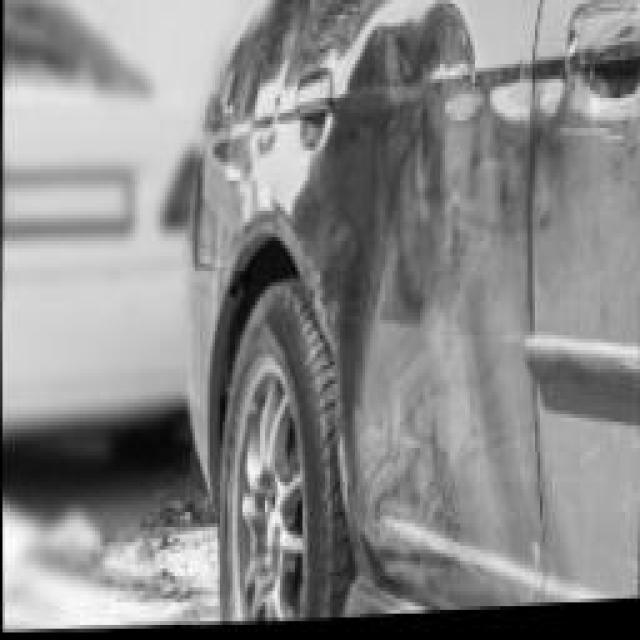Door: (290, 0, 540, 614)
